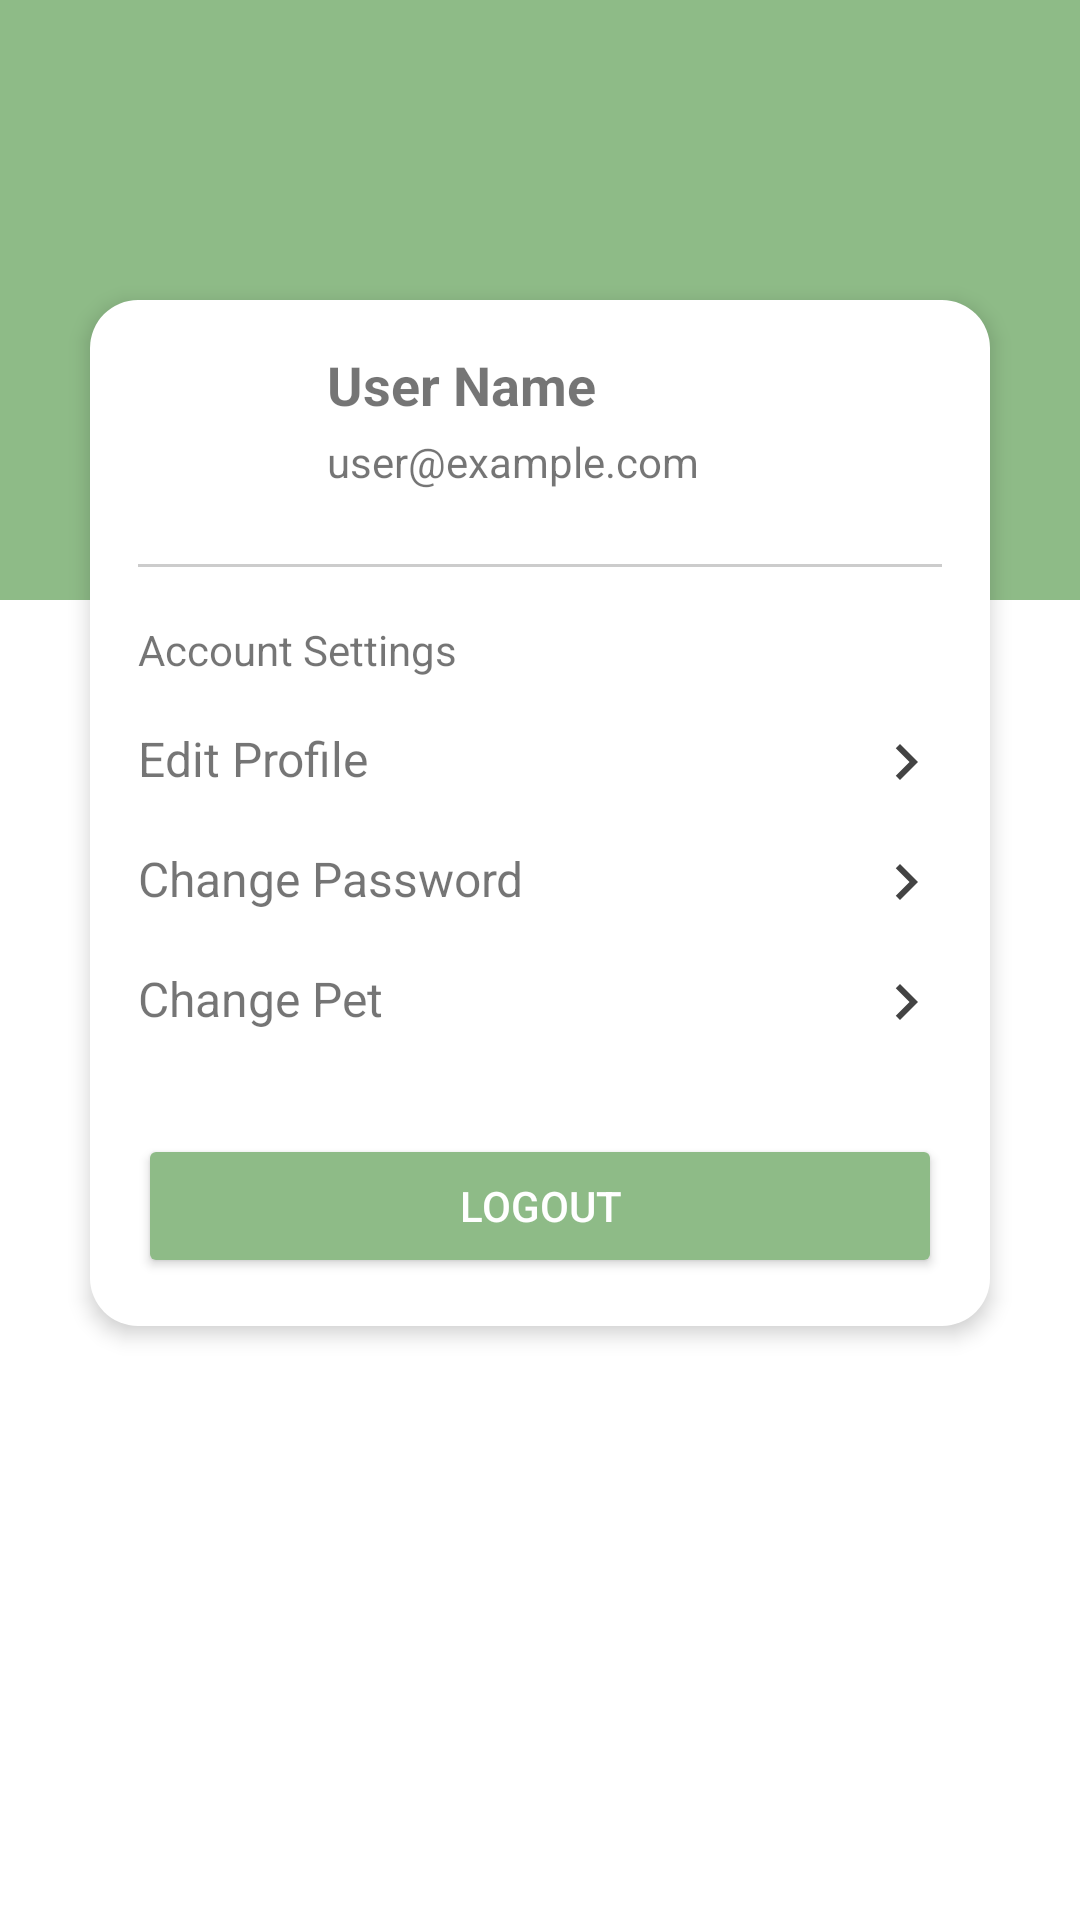

Named icons in this screenshot (1080*1920) and their bounding boxes, (x1, y1, x2, y2):
Chevron Right: (896, 744, 918, 780), (896, 864, 918, 900), (896, 984, 918, 1020)
